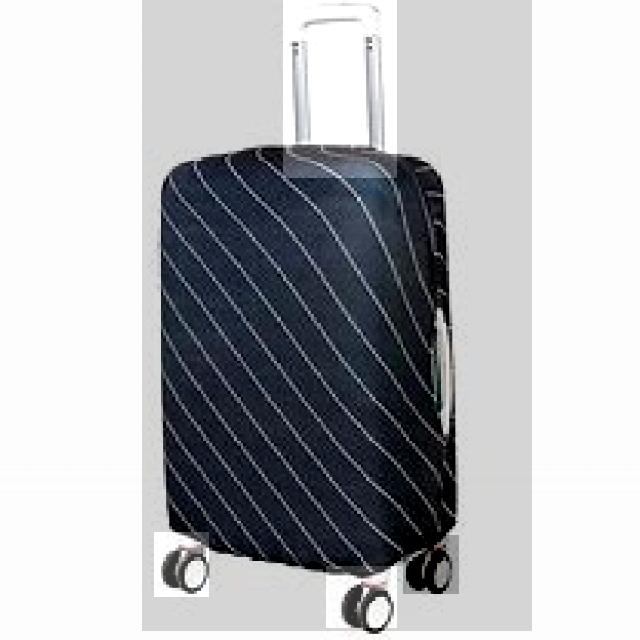Bag: (150, 0, 453, 630)
Handle: (287, 4, 396, 160)
